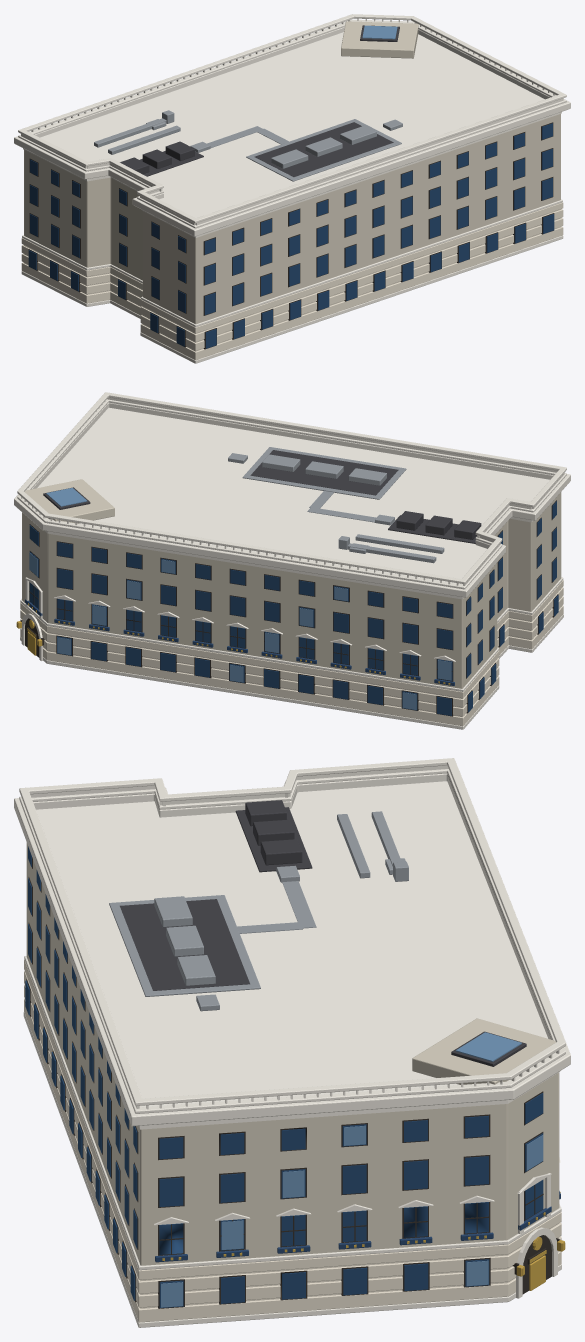
Rendered from 101-grove.glb.
3 renders of one model, top to bottom at view 1: azimuth 30°, elevation 25°; view 2: azimuth 150°, elevation 25°; view 3: azimuth 270°, elevation 25°, orthographic. The views are drawn at different scales.
Visible parts, largest first — view 1: grp_Toy_stone, roof, grp_Toy_trim, grp_Toy_sand, grp_Toy_glass, grp_Toy_ink, grp_Toy_steel, grp_Toy_roofd, penthouse_sky; view 2: roof, grp_Toy_stone, grp_Toy_trim, grp_Toy_sand, grp_Toy_glass, grp_Toy_ink, grp_Toy_steel, grp_Toy_roofd, grp_Toy_glassl_Glow, grp_Toy_navy, grp_Toy_gold, penthouse_sky; view 3: roof, grp_Toy_stone, grp_Toy_trim, grp_Toy_glass, grp_Toy_sand, grp_Toy_roofd, grp_Toy_steel, grp_Toy_ink, grp_Toy_glassl_Glow, grp_Toy_navy, penthouse_sky, grp_Toy_gold.
Part boxes in pixels (box(x1,y1,x2,y2)): grp_Toy_stone: box(24, 21, 560, 324); roof: box(40, 32, 544, 218); grp_Toy_trim: box(14, 14, 570, 363); grp_Toy_sand: box(21, 202, 563, 360); grp_Toy_glass: box(28, 123, 554, 348); grp_Toy_ink: box(28, 122, 554, 349); grp_Toy_steel: box(94, 110, 402, 181); grp_Toy_roofd: box(120, 25, 399, 176); penthouse_sky: box(362, 25, 397, 39); roof: box(37, 407, 549, 584); grp_Toy_stone: box(22, 479, 561, 688); grp_Toy_trim: box(14, 392, 570, 729); grp_Toy_sand: box(20, 580, 563, 726); grp_Toy_glass: box(29, 501, 558, 715); grp_Toy_ink: box(20, 500, 558, 716); grp_Toy_steel: box(228, 447, 444, 563); grp_Toy_roofd: box(43, 450, 481, 543); grp_Toy_glassl_Glow: box(29, 552, 451, 709); grp_Toy_navy: box(25, 599, 454, 685); grp_Toy_gold: box(17, 603, 450, 684); penthouse_sky: box(46, 488, 87, 506); roof: box(36, 781, 547, 1106); grp_Toy_stone: box(26, 842, 559, 1265); grp_Toy_trim: box(14, 758, 570, 1327); grp_Toy_glass: box(25, 846, 543, 1308); grp_Toy_sand: box(24, 960, 561, 1322); grp_Toy_roofd: box(120, 800, 526, 1066); grp_Toy_steel: box(109, 811, 408, 1011); grp_Toy_ink: box(26, 857, 559, 1308); grp_Toy_glassl_Glow: box(161, 1125, 543, 1307); grp_Toy_navy: box(155, 1191, 560, 1262); penthouse_sky: box(456, 1032, 521, 1061); grp_Toy_gold: box(162, 1192, 564, 1290).
Size of the model in its own units: 70.51 by 21.4 by 47.5.
